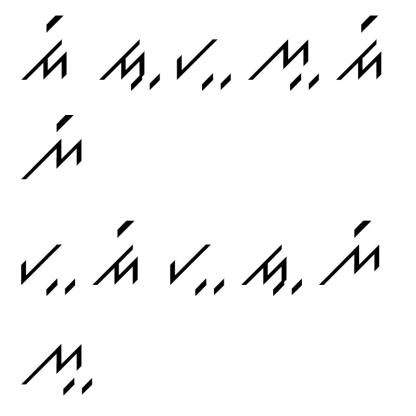dah: (96, 39, 163, 98), (243, 238, 304, 298)
dang: (333, 12, 394, 84), (86, 217, 142, 287), (22, 13, 76, 82)
nah: (13, 329, 99, 404), (248, 34, 322, 97)
nang: (15, 109, 90, 184), (318, 215, 386, 288)
pah: (15, 232, 78, 300), (165, 234, 228, 300), (174, 31, 235, 93)
